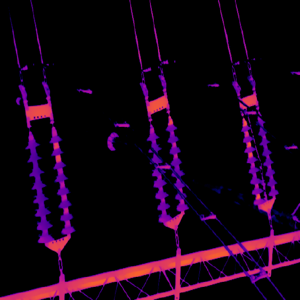insulator: (22, 128, 55, 244), (47, 123, 76, 235), (145, 121, 173, 225), (163, 112, 189, 213), (254, 108, 280, 198), (237, 114, 263, 200)
